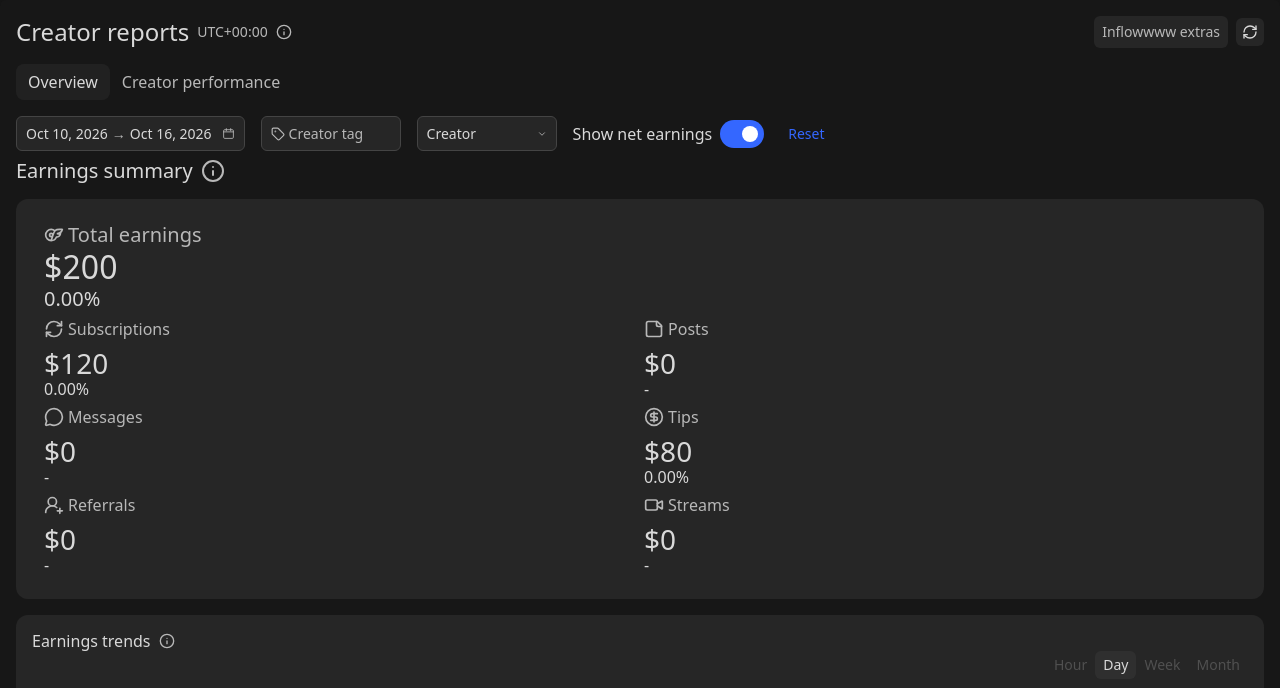
Test case: CompetitorReports defaults (#21 to #24, #33) › offers the bundle's presets and bounds, and Reset goes back to the last 7 days
This screenshot has width=1280, height=688.
Click the button with aria-label "Date range" at (130, 134), box [16,116,245,151]
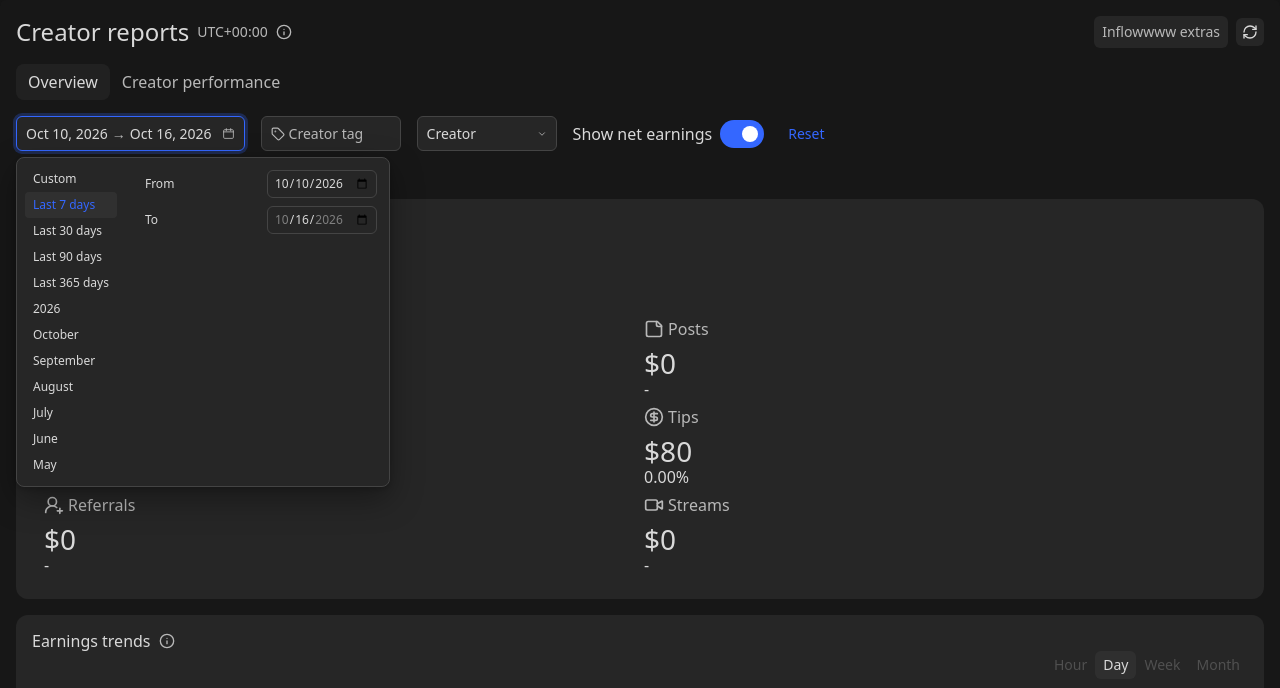
Click the button "Last 30 days" at (71, 231), box [25,218,117,244]
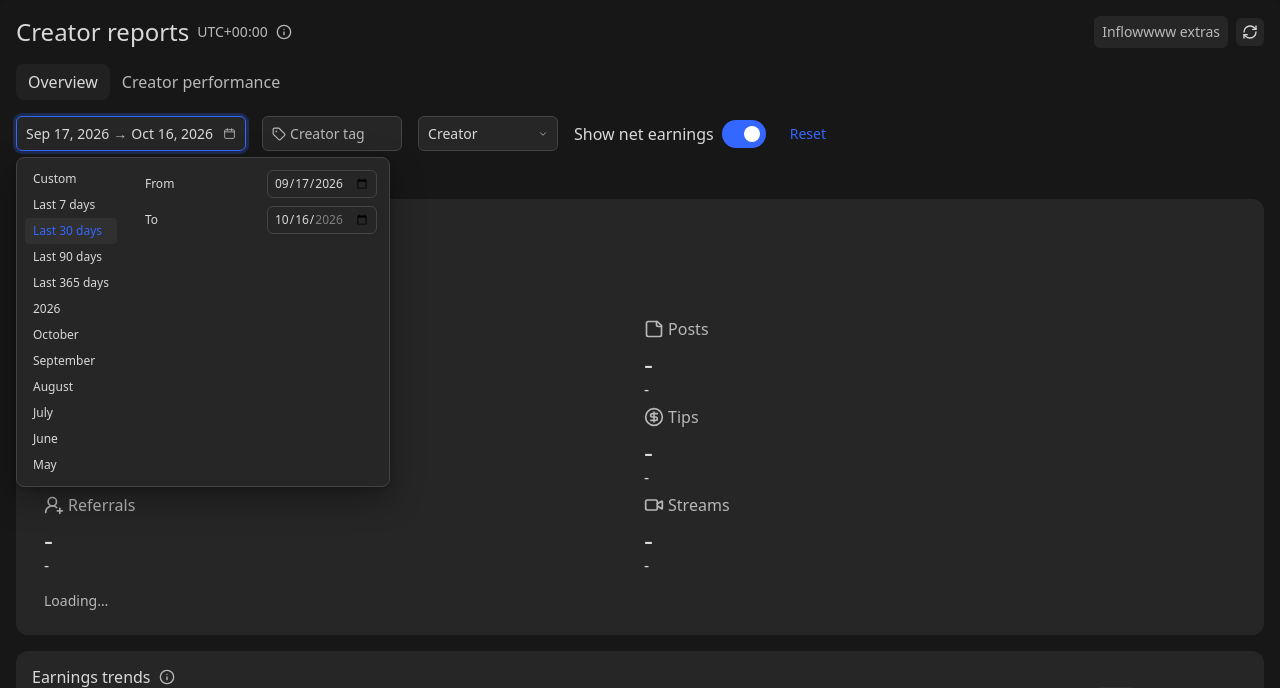
Expected: the button with aria-label "Date range" shows "Oct 16, 2026", [16,116,246,151]
Result: the button with aria-label "Date range" shows "Sep 17, 2026" at [16,116,246,151]
Click the button "2026" at (71, 309), box [25,296,117,322]
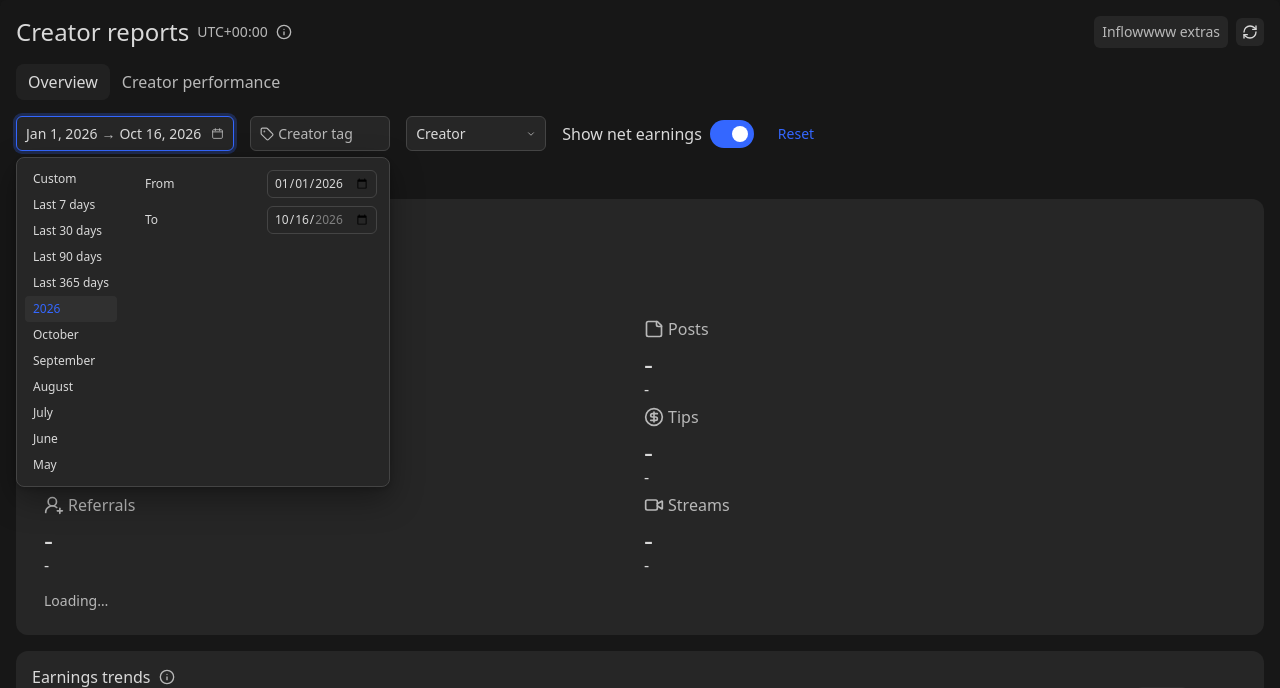
Expected: the button with aria-label "Date range" shows "Oct 16, 2026", [16,116,234,151]
Result: the button with aria-label "Date range" shows "Jan 1, 2026" at [16,116,234,151]
Click the button "October" at (71, 335), box [25,322,117,348]
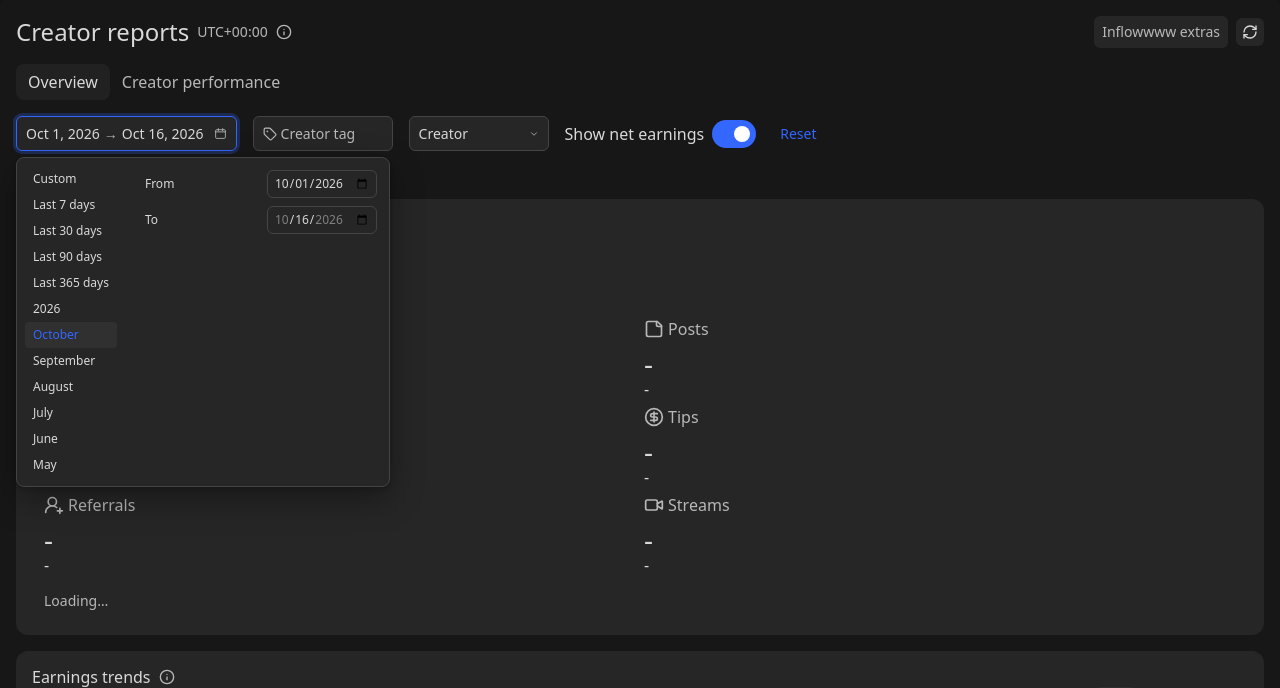
Expected: the button with aria-label "Date range" shows "Oct 16, 2026", [16,116,237,151]
Result: the button with aria-label "Date range" shows "Oct 1, 2026" at [16,116,237,151]
Click the button "September" at (71, 361), box [25,348,117,374]
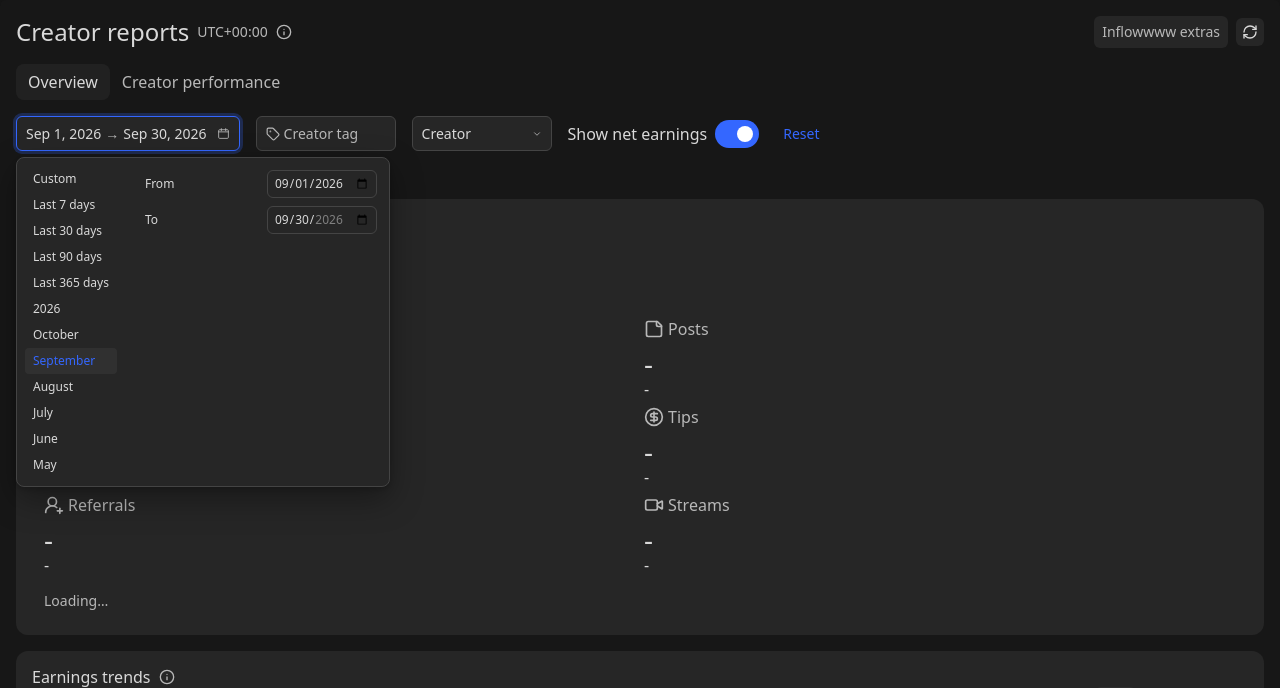
Result: the button with aria-label "Date range" shows "Sep 1, 2026" at [16,116,240,151]
Result: the button with aria-label "Date range" shows "Sep 30, 2026" at [16,116,240,151]
Click the button "Reset" at (801, 134), box [783,124,820,144]
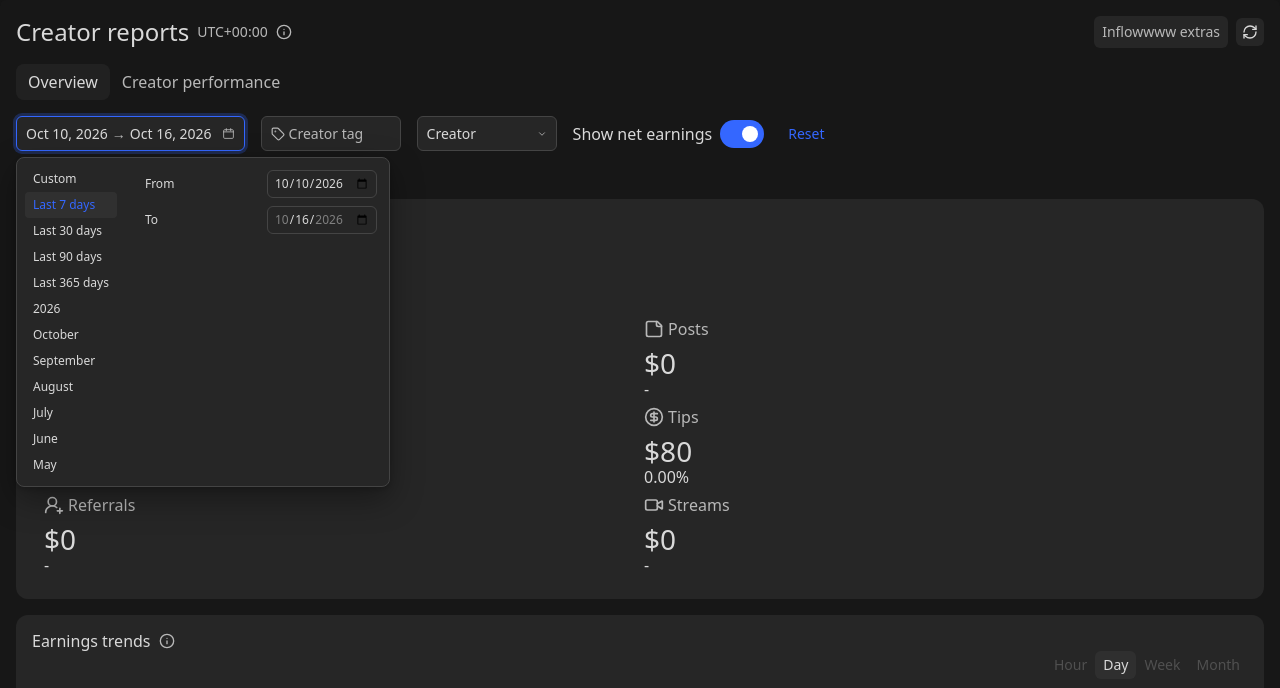
Result: the button with aria-label "Date range" shows "Oct 10, 2026" at [16,116,245,151]
Result: the button with aria-label "Date range" shows "Oct 16, 2026" at [16,116,245,151]
